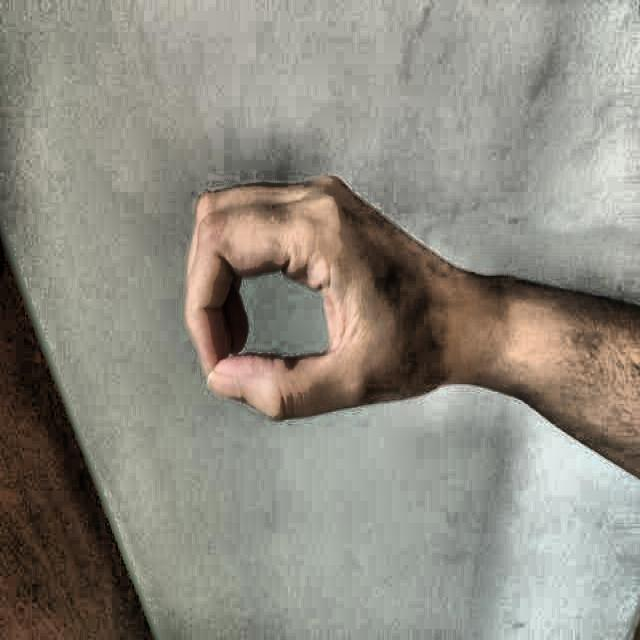O: (163, 160, 475, 455)
